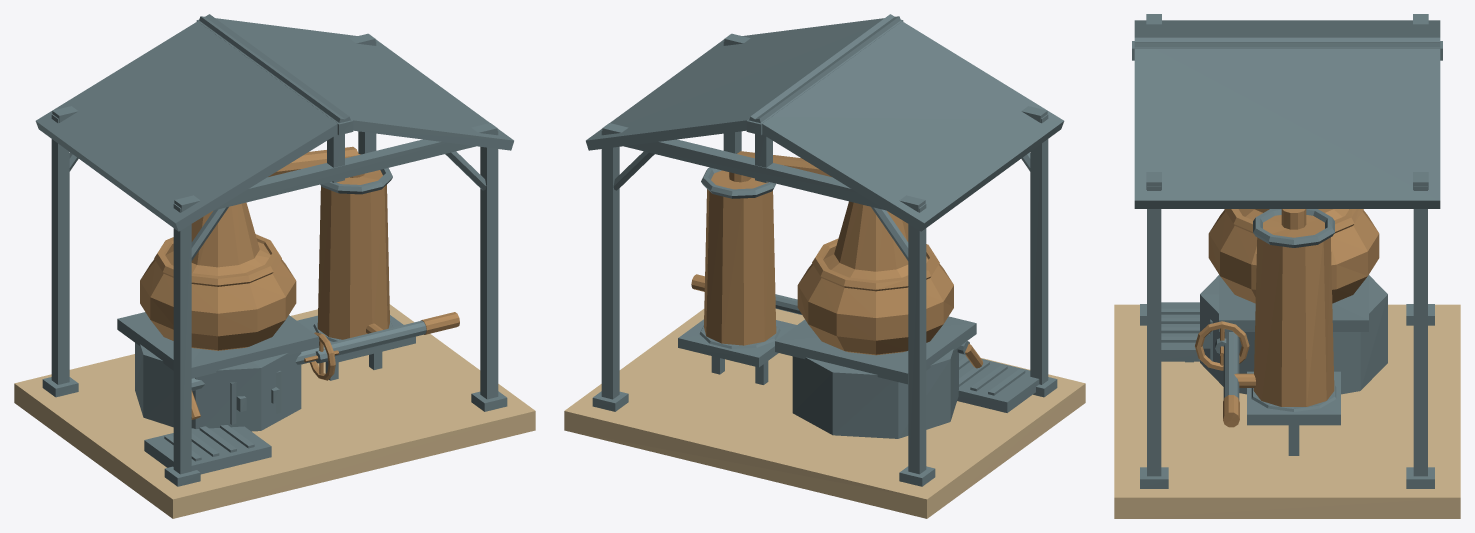
File: Distillery.glb
The picture shows the model from 3 angles, left to right: view 1: azimuth 30°, elevation 25°; view 2: azimuth 150°, elevation 25°; view 3: azimuth 270°, elevation 25°; orthographic projection. The views are drawn at different scales.
Visible parts, largest first — view 1: distillery-static-distillery-pale-galvanized-shelter, distillery-static-distillery-warm-cream-stone-base, distillery-static-distillery-dark-iron-furnace-manifold, distillery-static-distillery-restrained-copper-still, distillery-static-distillery-muted-teal-condenser-cooling; view 2: distillery-static-distillery-pale-galvanized-shelter, distillery-static-distillery-warm-cream-stone-base, distillery-static-distillery-dark-iron-furnace-manifold, distillery-static-distillery-restrained-copper-still, distillery-static-distillery-muted-teal-condenser-cooling; view 3: distillery-static-distillery-pale-galvanized-shelter, distillery-static-distillery-warm-cream-stone-base, distillery-static-distillery-dark-iron-furnace-manifold, distillery-static-distillery-muted-teal-condenser-cooling, distillery-static-distillery-restrained-copper-still.
Part boxes in pixels (x1=…): distillery-static-distillery-pale-galvanized-shelter: x1=35, y1=14, x2=513, y2=474; distillery-static-distillery-warm-cream-stone-base: x1=14, y1=304, x2=535, y2=518; distillery-static-distillery-dark-iron-furnace-manifold: x1=42, y1=19, x2=507, y2=486; distillery-static-distillery-restrained-copper-still: x1=140, y1=146, x2=364, y2=419; distillery-static-distillery-muted-teal-condenser-cooling: x1=317, y1=170, x2=459, y2=339; distillery-static-distillery-pale-galvanized-shelter: x1=586, y1=14, x2=1064, y2=474; distillery-static-distillery-warm-cream-stone-base: x1=564, y1=309, x2=1085, y2=518; distillery-static-distillery-dark-iron-furnace-manifold: x1=592, y1=19, x2=1057, y2=486; distillery-static-distillery-restrained-copper-still: x1=729, y1=151, x2=982, y2=368; distillery-static-distillery-muted-teal-condenser-cooling: x1=691, y1=170, x2=776, y2=345; distillery-static-distillery-pale-galvanized-shelter: x1=1134, y1=20, x2=1440, y2=476; distillery-static-distillery-warm-cream-stone-base: x1=1114, y1=304, x2=1460, y2=518; distillery-static-distillery-dark-iron-furnace-manifold: x1=1132, y1=14, x2=1442, y2=488; distillery-static-distillery-muted-teal-condenser-cooling: x1=1223, y1=215, x2=1334, y2=427; distillery-static-distillery-restrained-copper-still: x1=1195, y1=209, x2=1379, y2=370.
Bounding box in the file's own units: 3.5 × 3.23 × 2.65.
